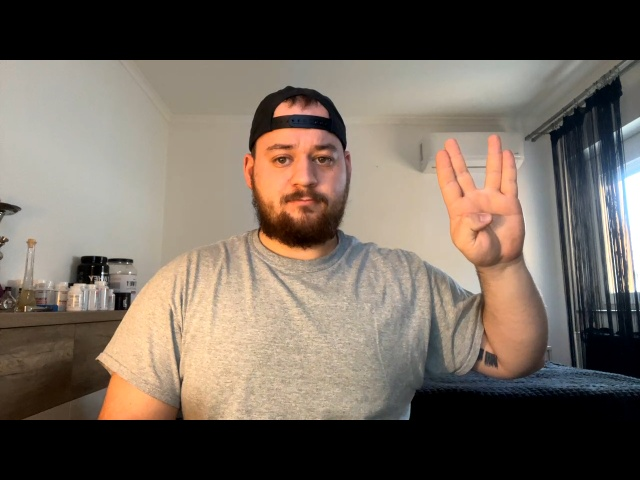LiveLong: (434, 133, 526, 264)
